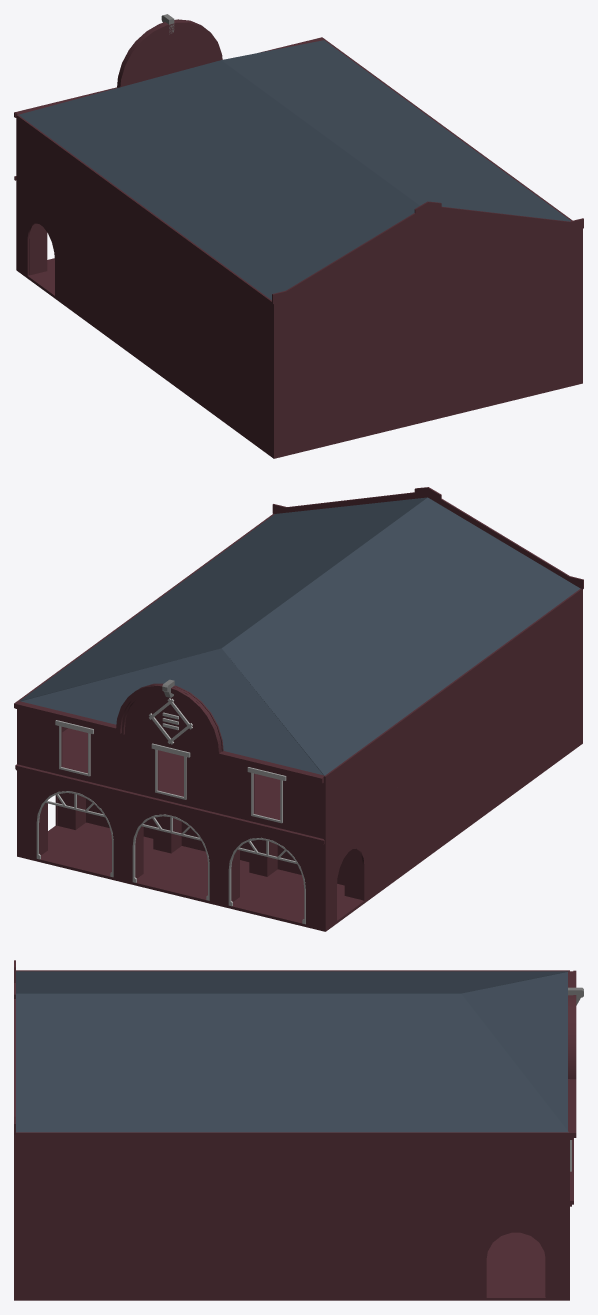
File: 三井倉庫(舊址).fbx
3 views of the same model, one above another, from view 1: azimuth 30°, elevation 25°; view 2: azimuth 150°, elevation 25°; view 3: azimuth 270°, elevation 25° (orthographic). The views are drawn at different scales.
Parts seen in each view (by area): view 1: 基本牆 (×7), 樓板 (×4), 105 x 105 cm(磚牆); view 2: 樓板 (×5), 基本牆 (×19), 105 x 105 cm(磚牆) (×4); view 3: 樓板 (×5), 基本牆 (×7).
Boxes of the visible parts, x1,y1,x2,y2 form: 基本牆 (×7): [14, 19, 583, 455]; 樓板 (×4): [16, 40, 582, 458]; 105 x 105 cm(磚牆): [29, 223, 47, 275]; 樓板 (×5): [17, 497, 582, 931]; 基本牆 (×19): [14, 487, 583, 928]; 105 x 105 cm(磚牆) (×4): [57, 793, 362, 899]; 樓板 (×5): [14, 971, 569, 1300]; 基本牆 (×7): [14, 960, 576, 1297].
Bounding box in the file's own units: 59.42 × 87.44 × 40.
